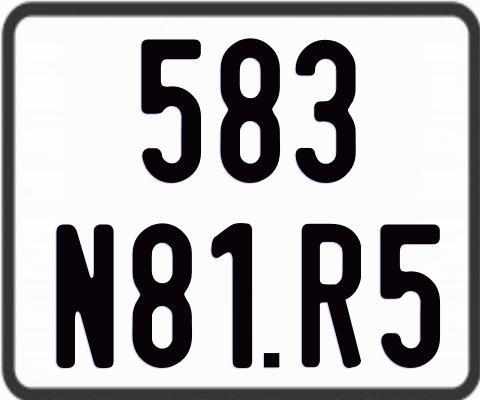1: (211, 221, 253, 370)
3: (296, 40, 360, 187)
5: (379, 221, 444, 369), (140, 37, 203, 182)
8: (217, 36, 283, 185), (130, 220, 191, 365)
N: (54, 221, 117, 367)
R: (301, 224, 363, 373)
